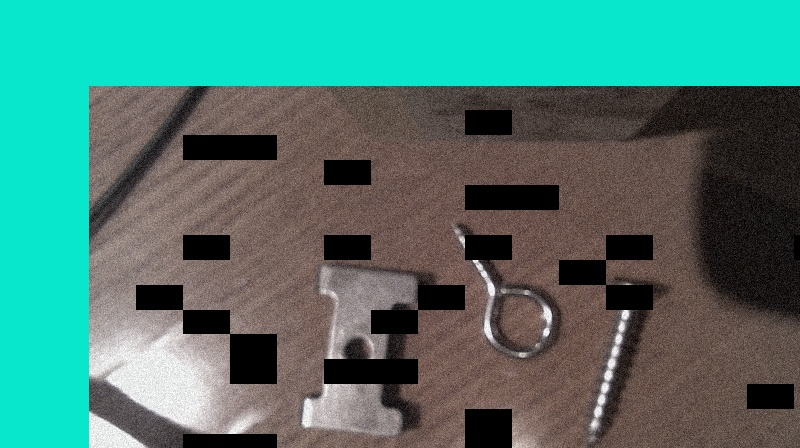O001: (443, 215, 563, 362)
O002: (296, 256, 423, 437)
S001: (575, 270, 662, 447)
